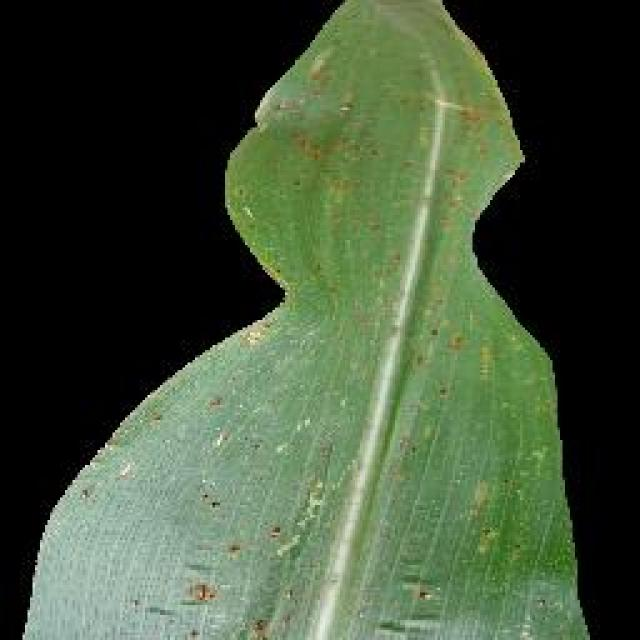Corn Common Rust: (77, 17, 524, 640)
